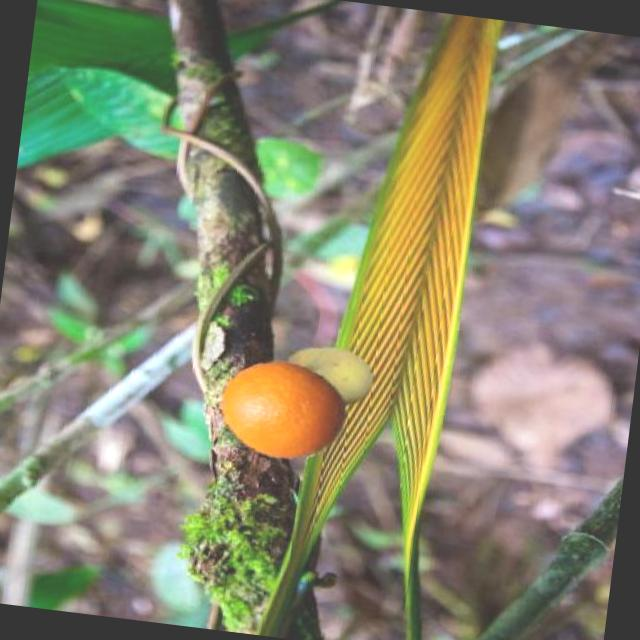Orange: (214, 353, 354, 466)
